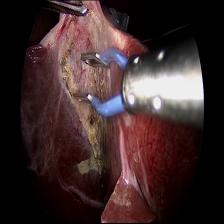Bipolar: (66, 46, 168, 121)
Grasper: (29, 1, 93, 16)
